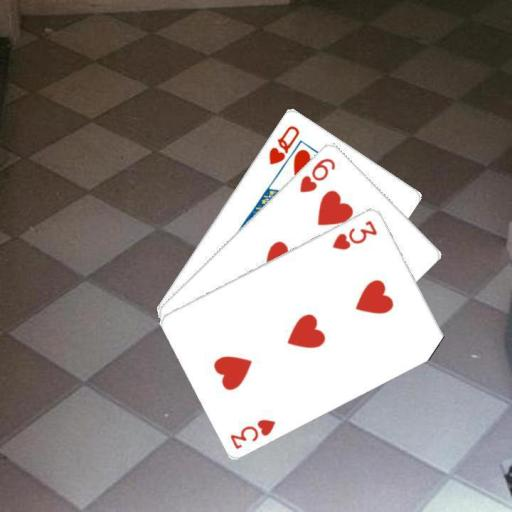card-corner: (227, 415, 277, 450), (329, 217, 379, 251), (297, 154, 337, 194), (265, 122, 301, 166)
